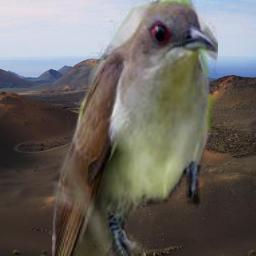Cuckoo: (52, 0, 218, 256)
